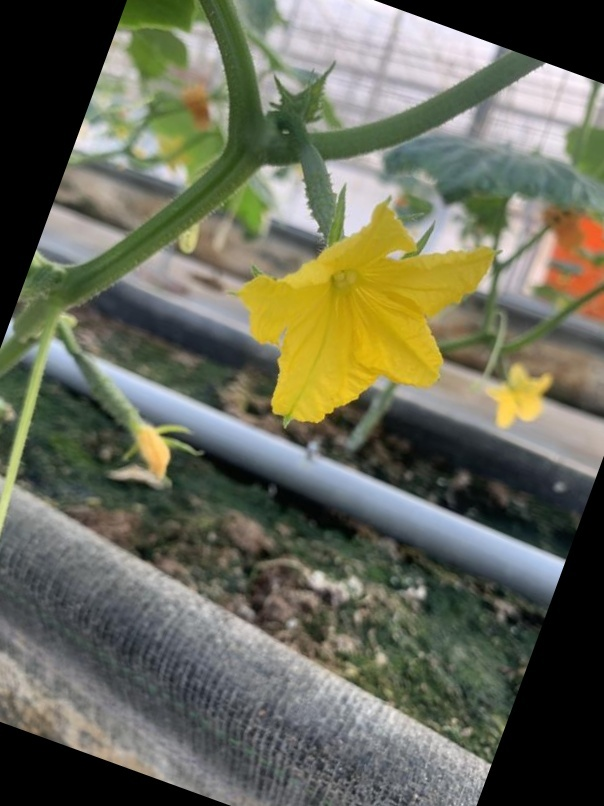flowering: (208, 142, 498, 440)
